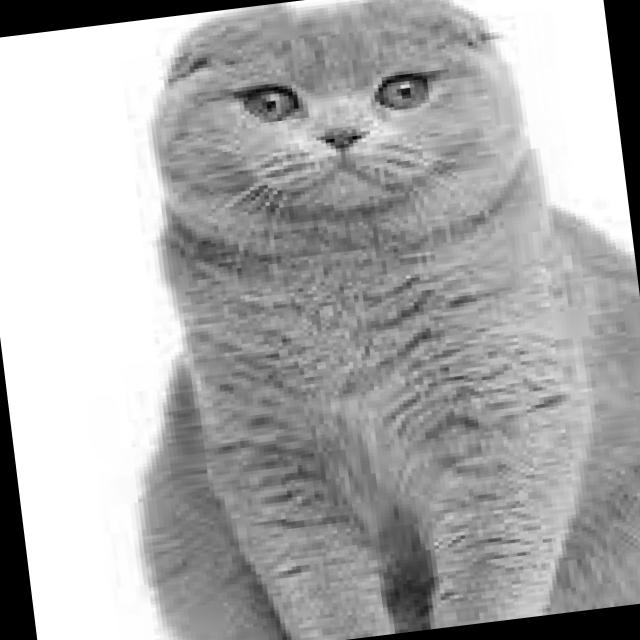scootish: (128, 0, 547, 298)
